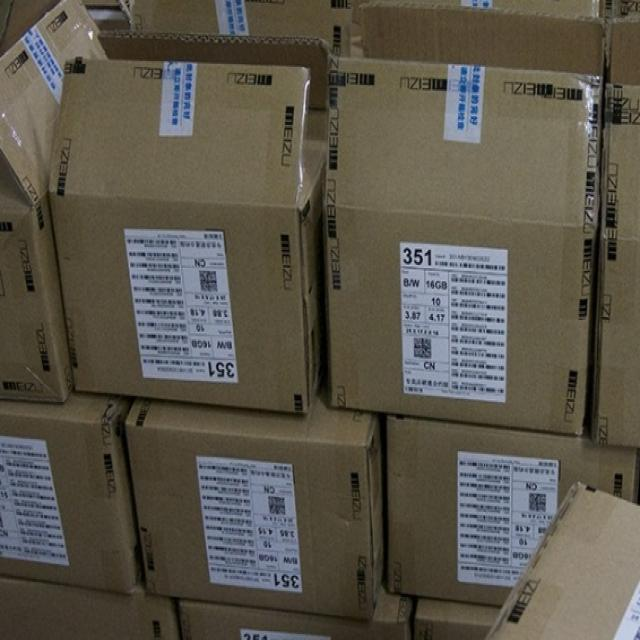box: (323, 5, 604, 434), (41, 31, 324, 413), (122, 377, 384, 619), (382, 417, 639, 603), (0, 0, 108, 406), (0, 396, 138, 591), (483, 483, 639, 639), (586, 21, 639, 449), (177, 590, 417, 639), (0, 576, 181, 639), (129, 0, 335, 51), (356, 1, 600, 17), (417, 592, 500, 639)
